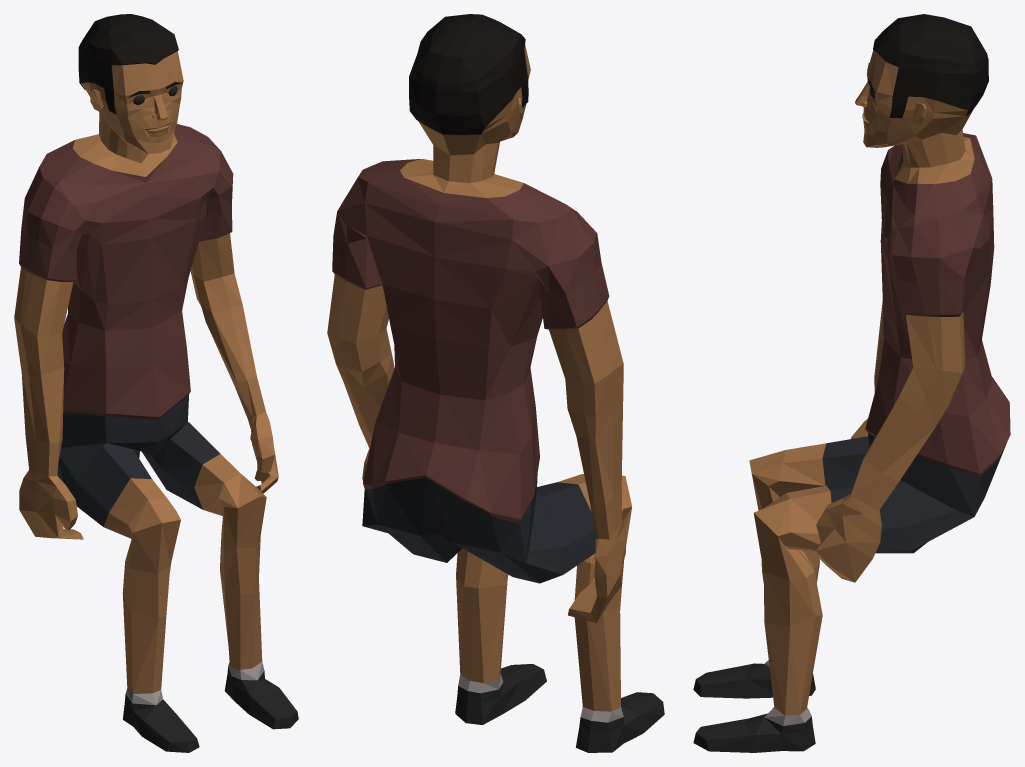
File: cg_man_1.glb
The picture shows the model from 3 angles, left to right: view 1: azimuth 30°, elevation 25°; view 2: azimuth 150°, elevation 25°; view 3: azimuth 270°, elevation 25°; orthographic projection. The views are drawn at different scales.
Bounding box in the file's own units: 1.47 × 4.01 × 1.66.
